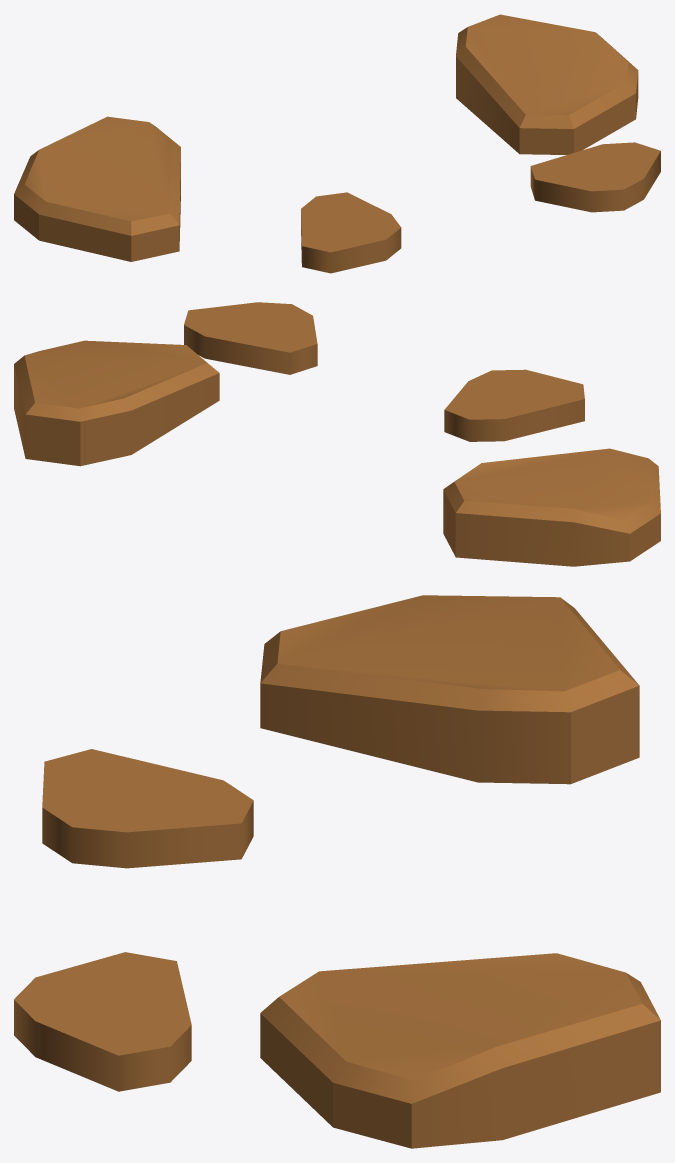
Rendered from Stone.FBX.glb.
3 views of the same model, one above another, from view 1: azimuth 30°, elevation 25°; view 2: azimuth 150°, elevation 25°; view 3: azimuth 270°, elevation 25° (orthographic). The views are drawn at different scales.
Parts seen in each view (by area): view 1: Cylinder075.2; view 2: Cylinder075.2; view 3: Cylinder075.2.
Boxes of the visible parts, box(x1,y1,x2,y2) form: Cylinder075.2: box(14, 14, 660, 273); Cylinder075.2: box(14, 302, 660, 566); Cylinder075.2: box(14, 595, 660, 1148).
Size of the model in its own units: 1352 by 109 by 741.
